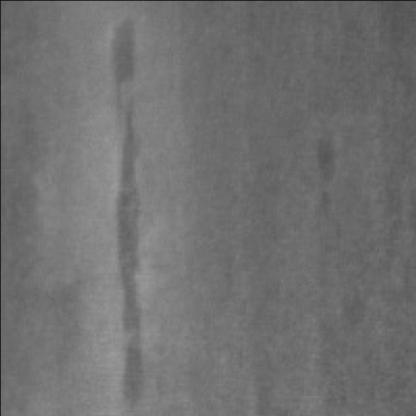inclusion: (6, 154, 73, 406), (108, 89, 158, 410), (104, 15, 148, 133), (310, 129, 347, 233)
